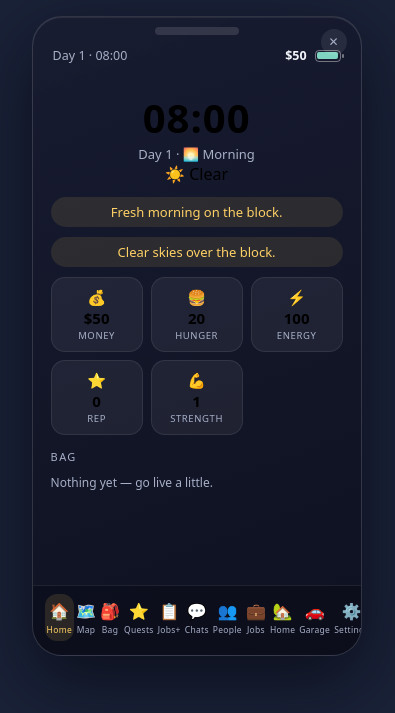
Phone › switches apps through the bottom nav
expect the element with test id "phone-app-home" is shown: met, box [33,72,361,585]
What coordinates should you click on to do the following:
click the button with test id "phone-nav-quests"
I would click on:
 (139, 618)
Its box is [122,594,156,641].
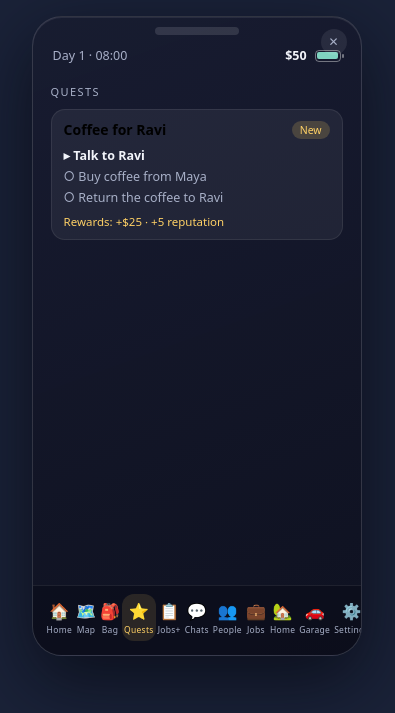
expect the element with test id "phone-app-quests" is shown: met, box [51,84,343,240]
What coordinates should you click on to do the following:
click the button with test id "phone-nav-map"
I would click on:
 (86, 618)
Its box is [74,594,98,641].
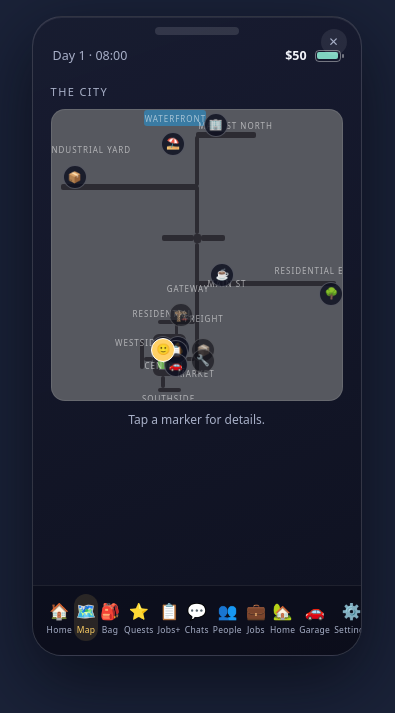
expect the element with test id "phone-app-map" is shown: met, box [33,72,361,585]
